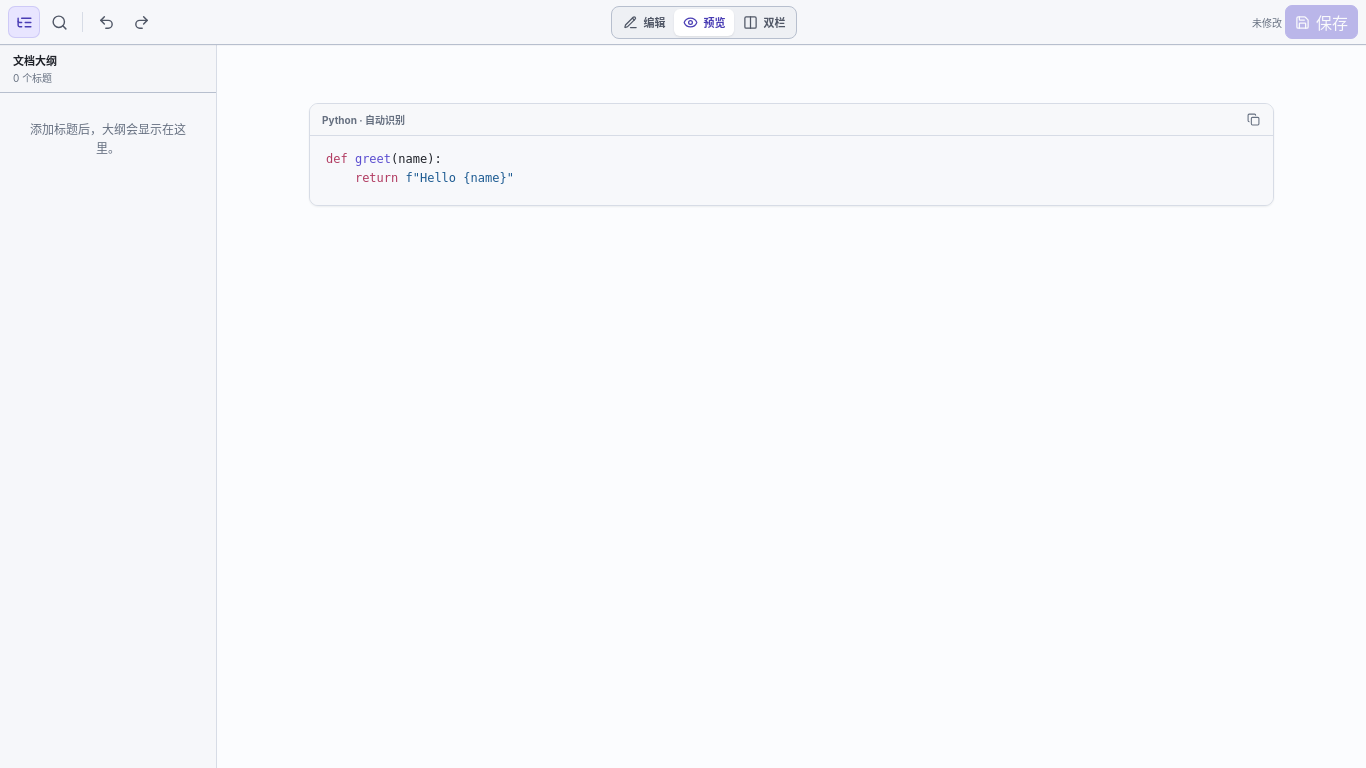
MarkdownViewer preview › auto-detects an unlabeled fence and copies the original code through the desktop bridge
Expected: the text with class "hljs-keyword" reads "def", [326,152,348,166]
Click the button named "复制代码" at (1254, 120), box [1241,107,1266,132]
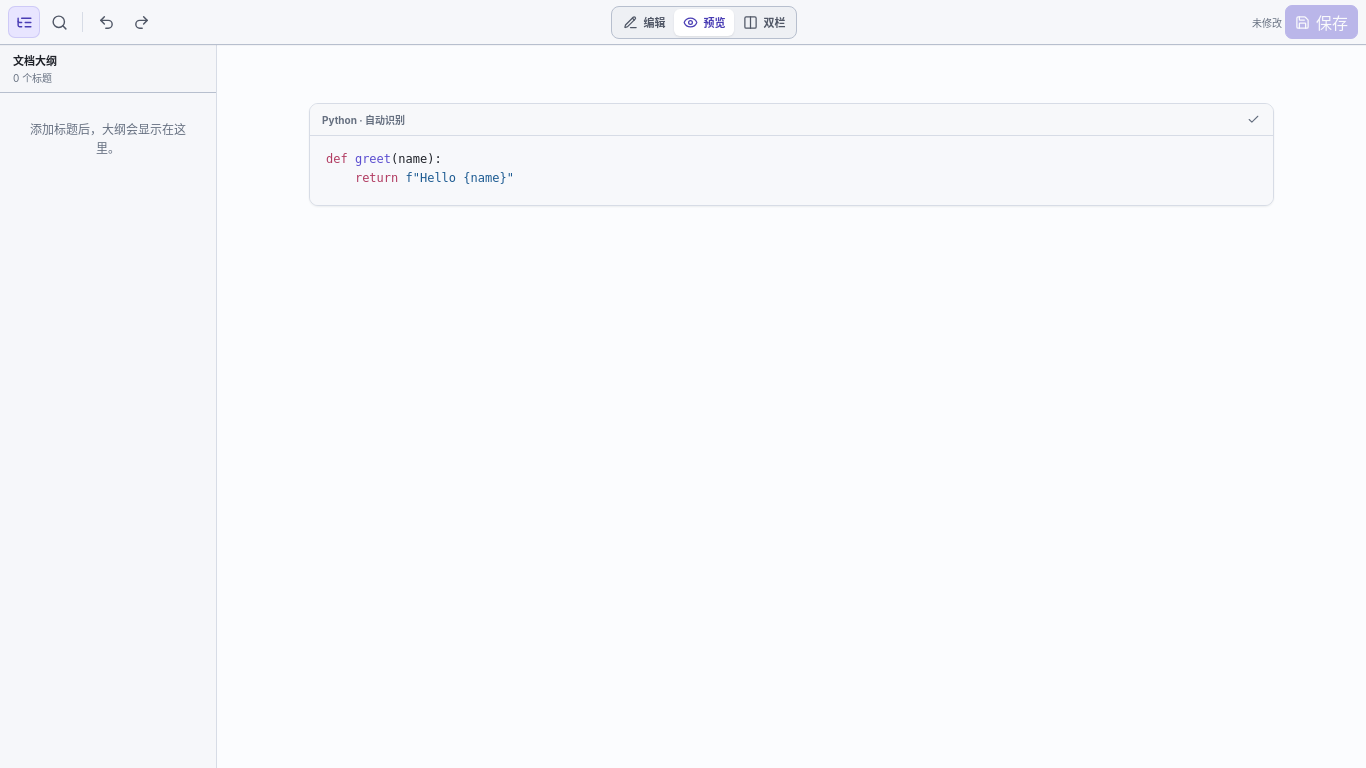
Result: the button named "代码已复制" is shown at [1241,107,1266,132]
